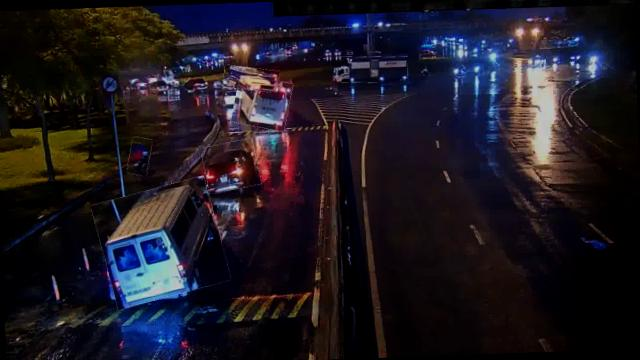Bike: (127, 137, 151, 176)
Bus: (95, 182, 227, 306), (231, 75, 292, 130), (222, 64, 279, 92)
Car: (202, 140, 260, 192)
Truck: (340, 55, 408, 83)
